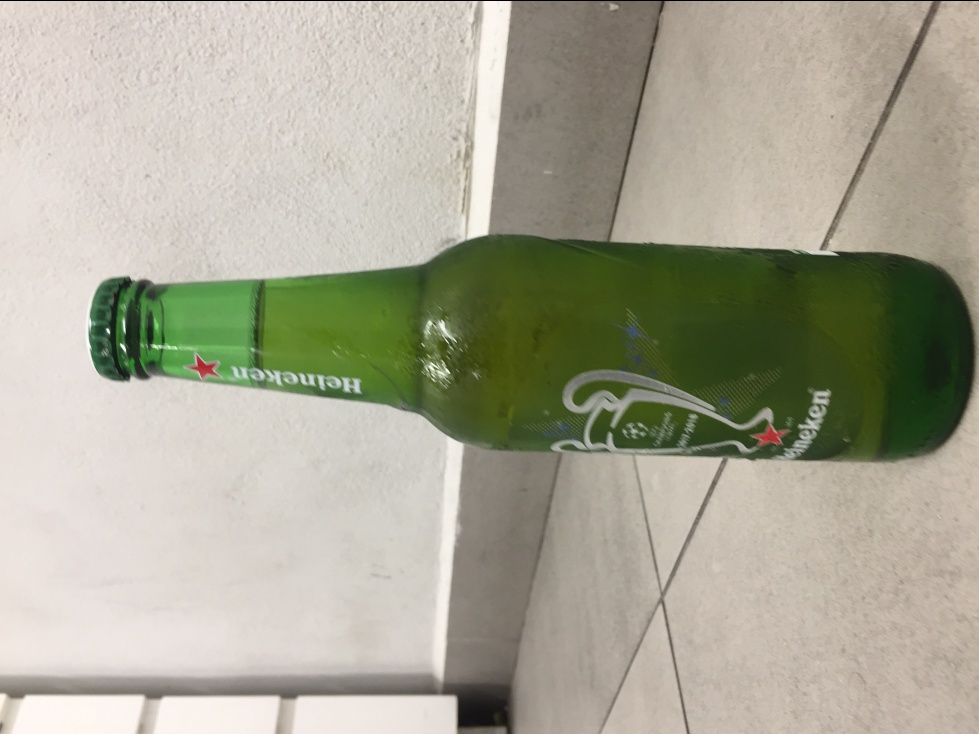heineken: (85, 231, 978, 465)
